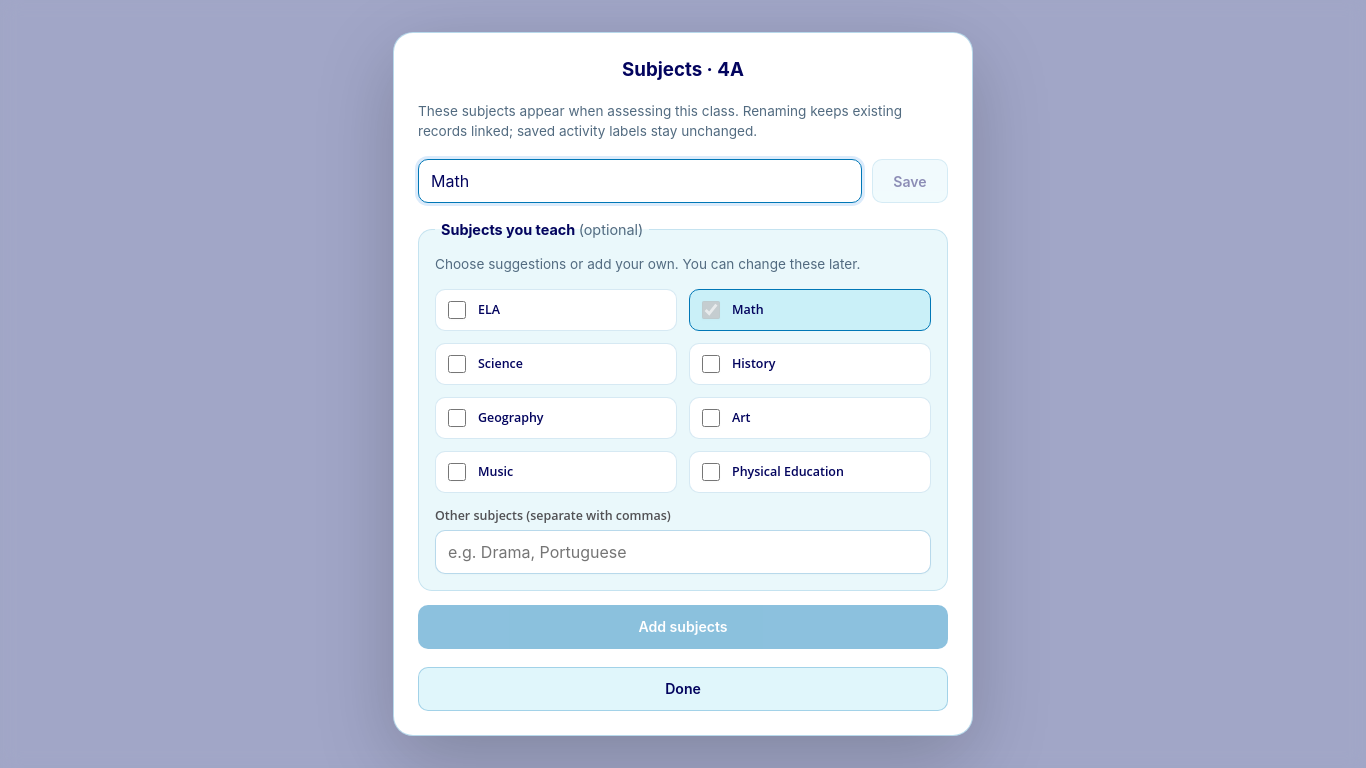
Test: existing subjects are selected and cannot be added again
Expected: the checkbox labelled "Math" is disabled, [702,301,720,319]
Click the checkbox labelled "Science": (457, 364) [448,355,466,373]
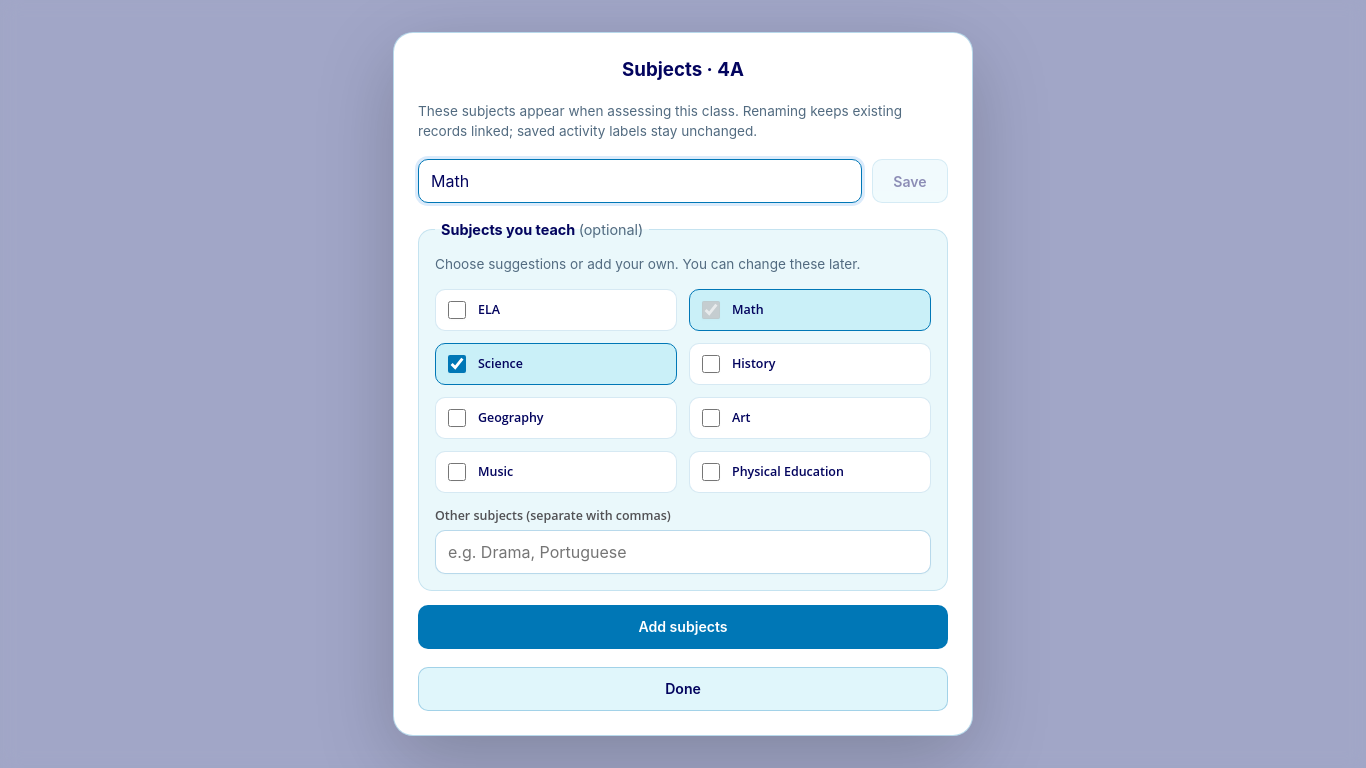
Click the button "Add subjects": (683, 627) [418,605,948,649]
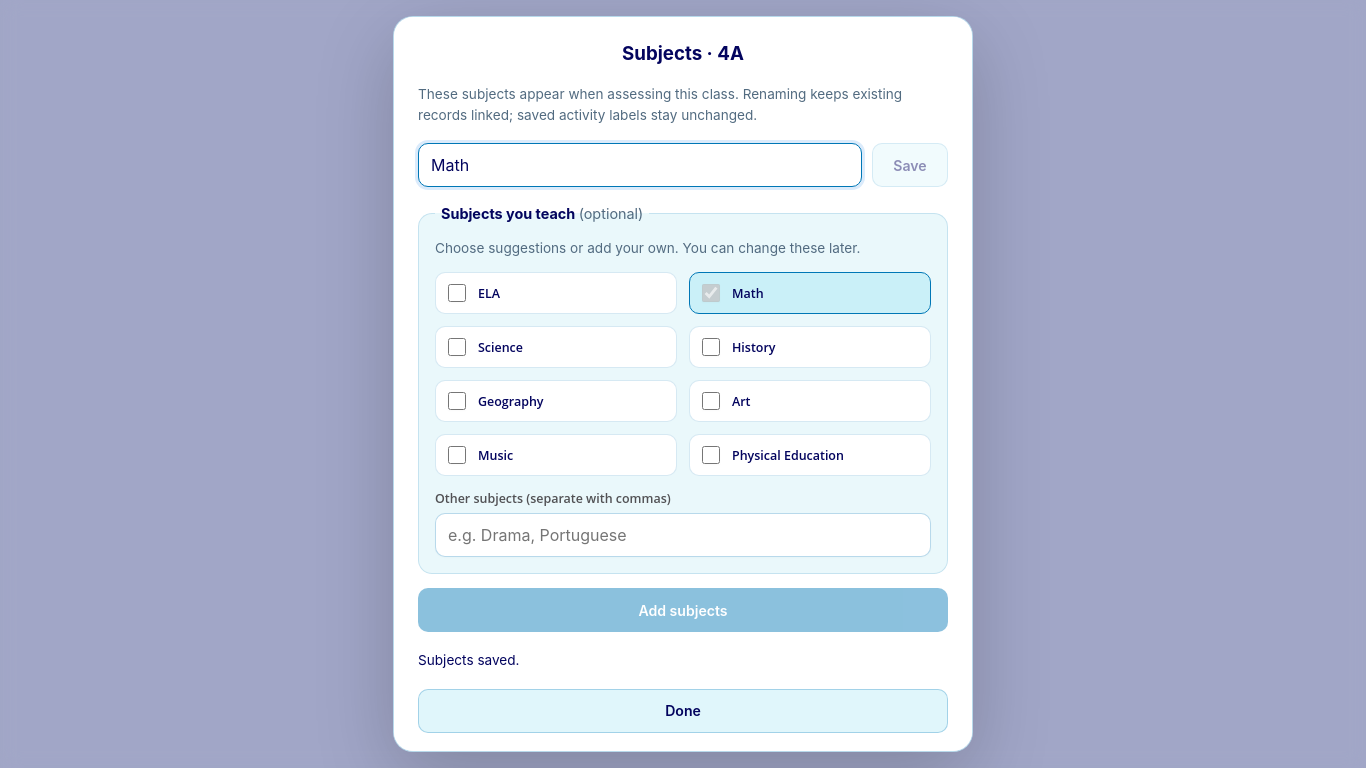
Result: the button "Add subjects" is disabled at [418,588,948,632]
